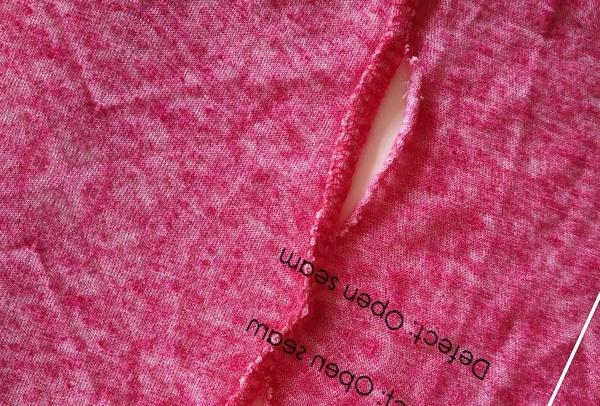hole: (332, 37, 424, 248)
